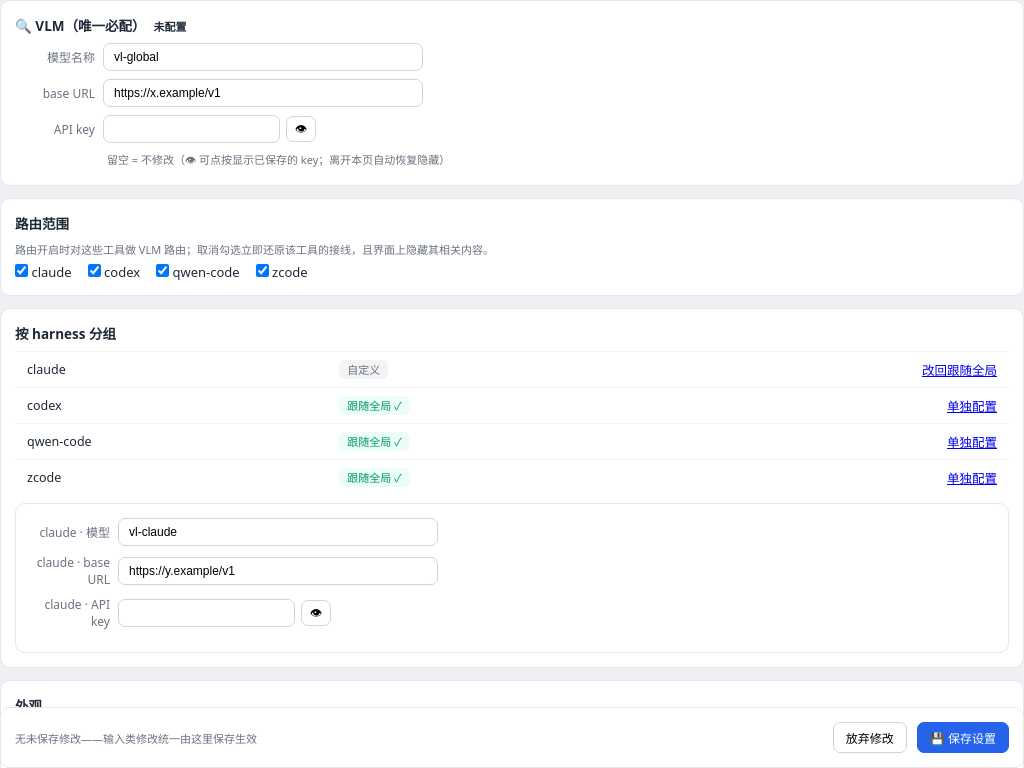
Scenario: SettingsPage SecretField（VLM key 显隐） › reveal 不标记脏：保存按钮保持禁用
The width and height of the screenshot is (1024, 768).
Check: the field showing "vl-global" next to "模型名称" is shown, box [103,43,423,71]
What coordinates should you click on to do the following:
click the button named "显示 API key"
I would click on:
 (301, 129)
Its box is [286,116,316,142].
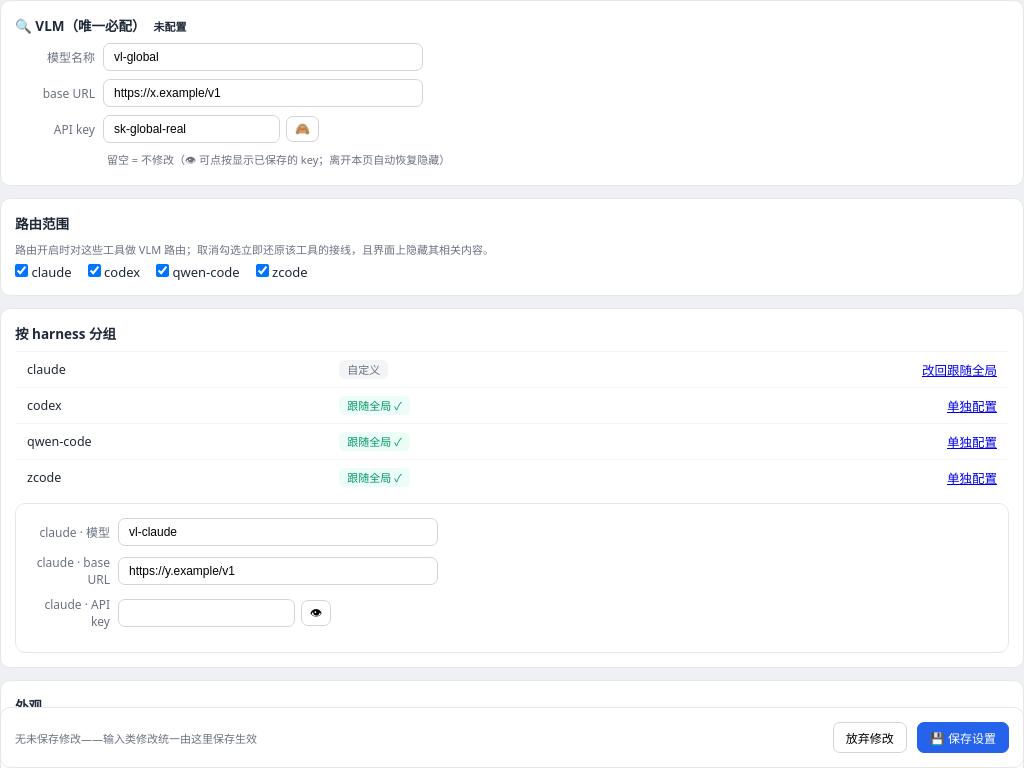
Check: the text "无未保存修改——输入类修改统一由这里保存生效" is shown, box [15,730,257,746]
Check: the 3rd field showing "sk-global-real" is shown, box [103,115,280,143]
